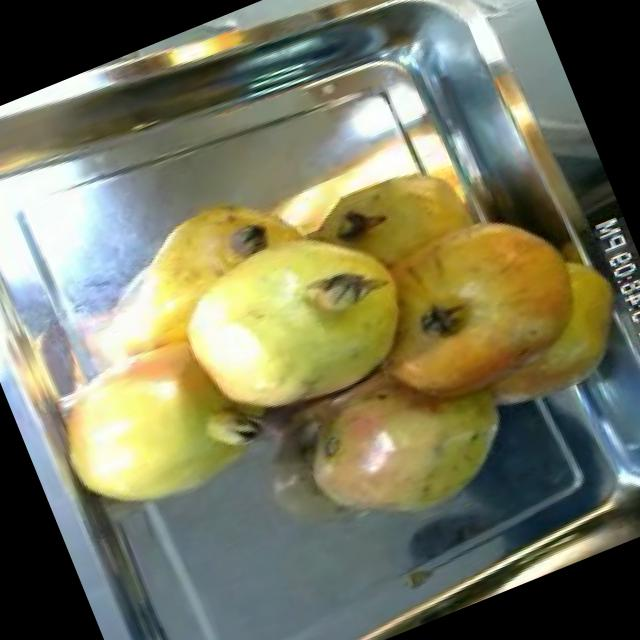fruit: (329, 172, 616, 440), (271, 326, 541, 561)
